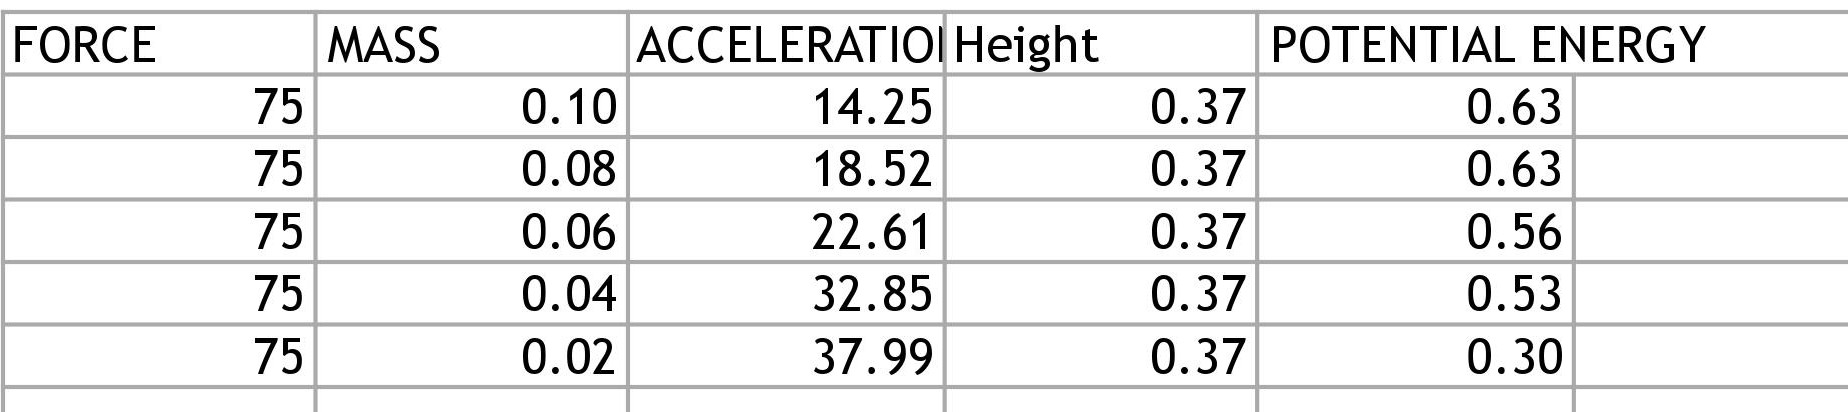fracking table: (1, 5, 1848, 390)
